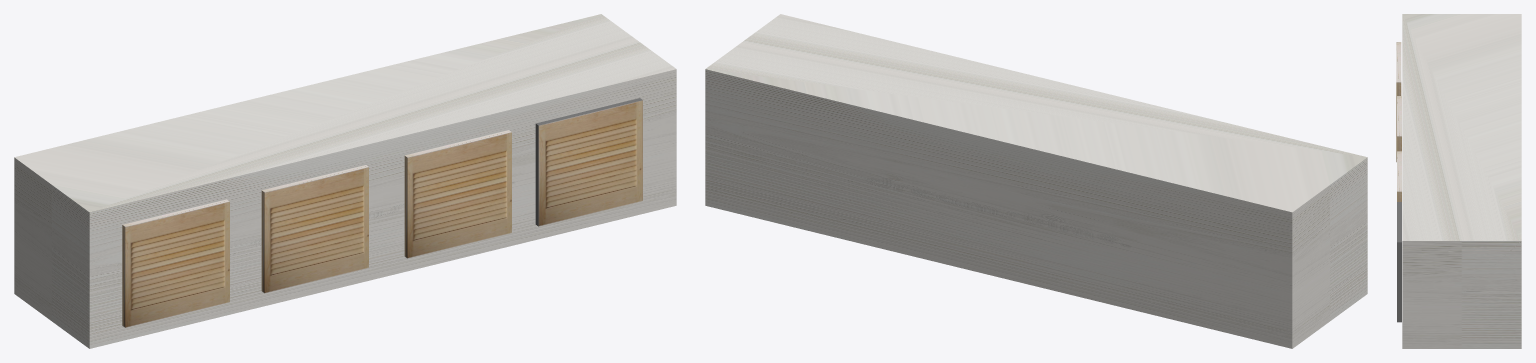
The model's file is mueble.obj.
The picture shows the model from 3 angles, left to right: view 1: azimuth 30°, elevation 25°; view 2: azimuth 150°, elevation 25°; view 3: azimuth 270°, elevation 25°; orthographic projection. The views are drawn at different scales.
Visible parts, largest first — view 1: pCube1, pasted__pCube3 group, pCube2, pCube3, pasted__pCube3 group1; view 2: pCube1; view 3: pCube1, pasted__pCube3 group1, pCube2, pCube3, pasted__pCube3 group.
Boxes of the visible parts, x1=… form: pCube1: x1=14, y1=14, x2=676, y2=348; pasted__pCube3 group: x1=404, y1=130, x2=511, y2=258; pCube2: x1=122, y1=199, x2=229, y2=327; pCube3: x1=261, y1=165, x2=368, y2=293; pasted__pCube3 group1: x1=535, y1=98, x2=642, y2=226; pCube1: x1=705, y1=14, x2=1367, y2=348; pCube1: x1=1402, y1=14, x2=1521, y2=348; pasted__pCube3 group1: x1=1397, y1=202, x2=1401, y2=322; pCube2: x1=1396, y1=42, x2=1401, y2=162; pCube3: x1=1397, y1=96, x2=1401, y2=151; pasted__pCube3 group: x1=1397, y1=151, x2=1401, y2=201.
Size of the model in its own units: 225 by 50 by 52.42.
Materials: 3 (2 with a texture image).
